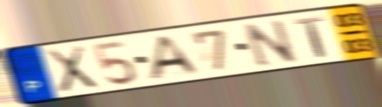5: (90, 38, 138, 87)
7: (190, 27, 228, 73)
A: (147, 34, 204, 82)
N: (240, 17, 300, 69)
T: (292, 14, 328, 59)
X: (43, 43, 101, 95)
